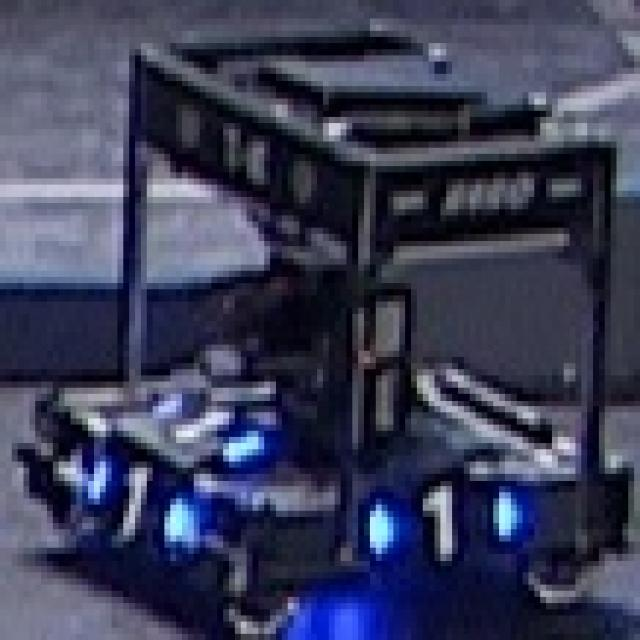B1: (74, 437, 202, 572), (132, 360, 267, 483), (358, 468, 529, 560)
